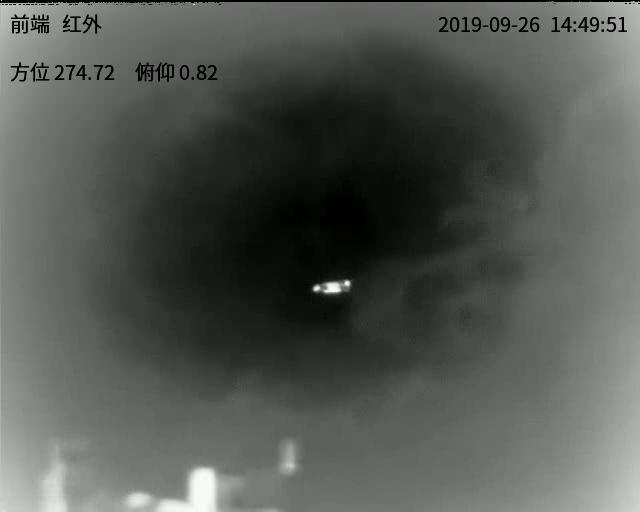DRONE: (309, 277, 352, 293)
